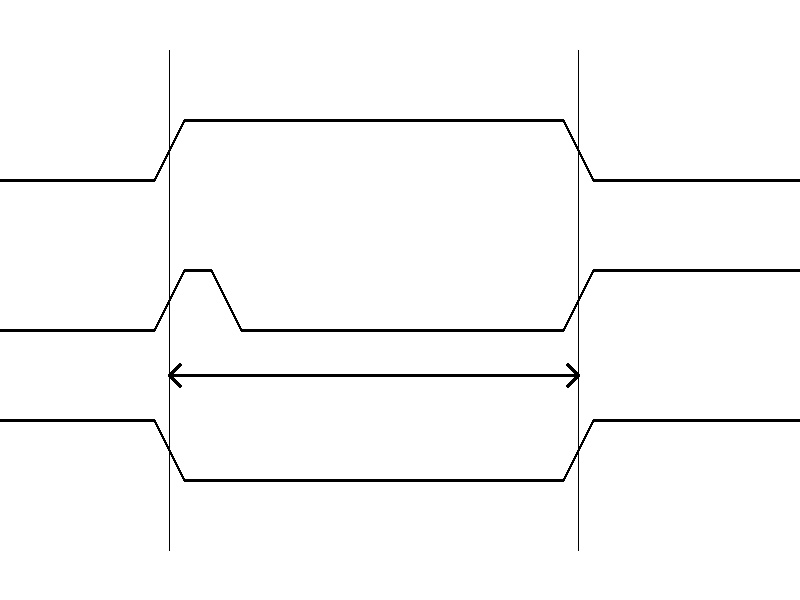double_arrow: (169, 360, 578, 390)
